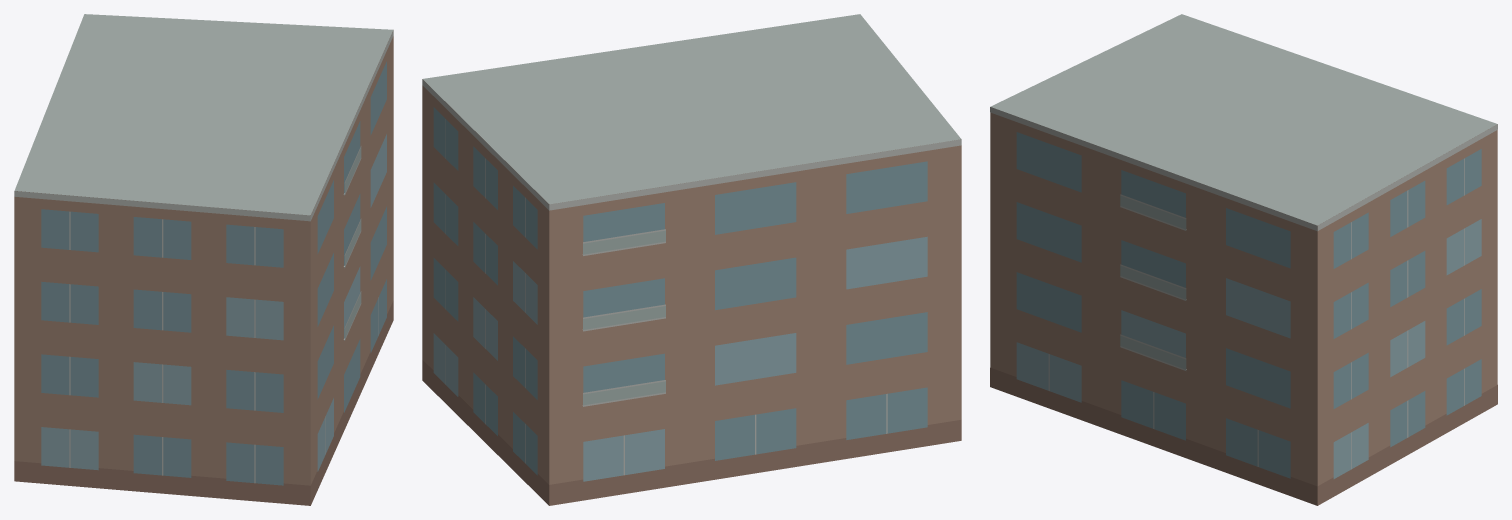
File: survey-upis-32934244.glb
3 renders of one model, left to right at view 1: azimuth 30°, elevation 25°; view 2: azimuth 150°, elevation 25°; view 3: azimuth 270°, elevation 25°, orthographic. The views are drawn at different scales.
Visible parts, largest first — view 1: survey-upis-32934244.tmp; view 2: survey-upis-32934244.tmp; view 3: survey-upis-32934244.tmp.
Part boxes in pixels (x1=…): survey-upis-32934244.tmp: x1=14, y1=14, x2=393, y2=505; survey-upis-32934244.tmp: x1=422, y1=14, x2=961, y2=505; survey-upis-32934244.tmp: x1=990, y1=14, x2=1497, y2=505.
Size of the model in its own units: 19.44 by 12 by 19.7.
